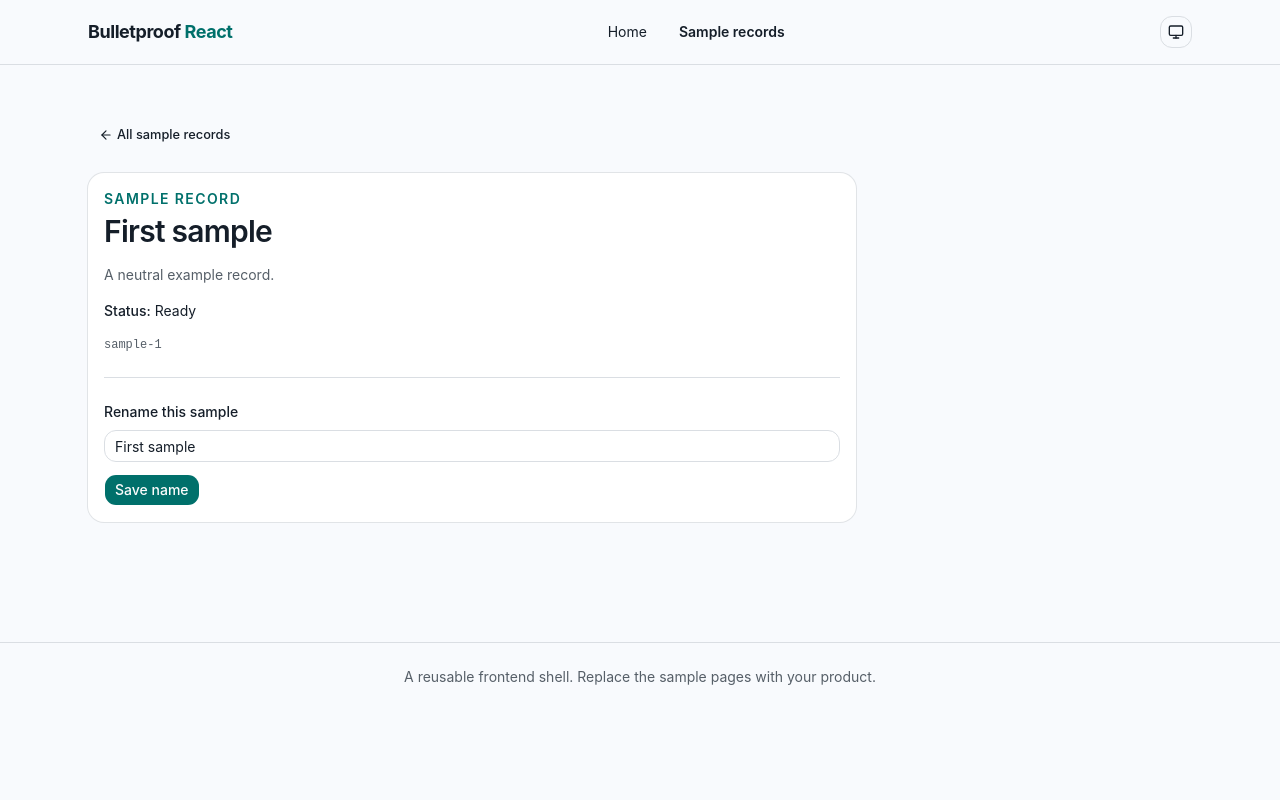
Test: application routes › rejects an invalid mutation response without showing a false success
Replace the text in the field labelled "Rename this sample" with "Unconfirmed name" at x=472, y=446, box [104,430,840,462]
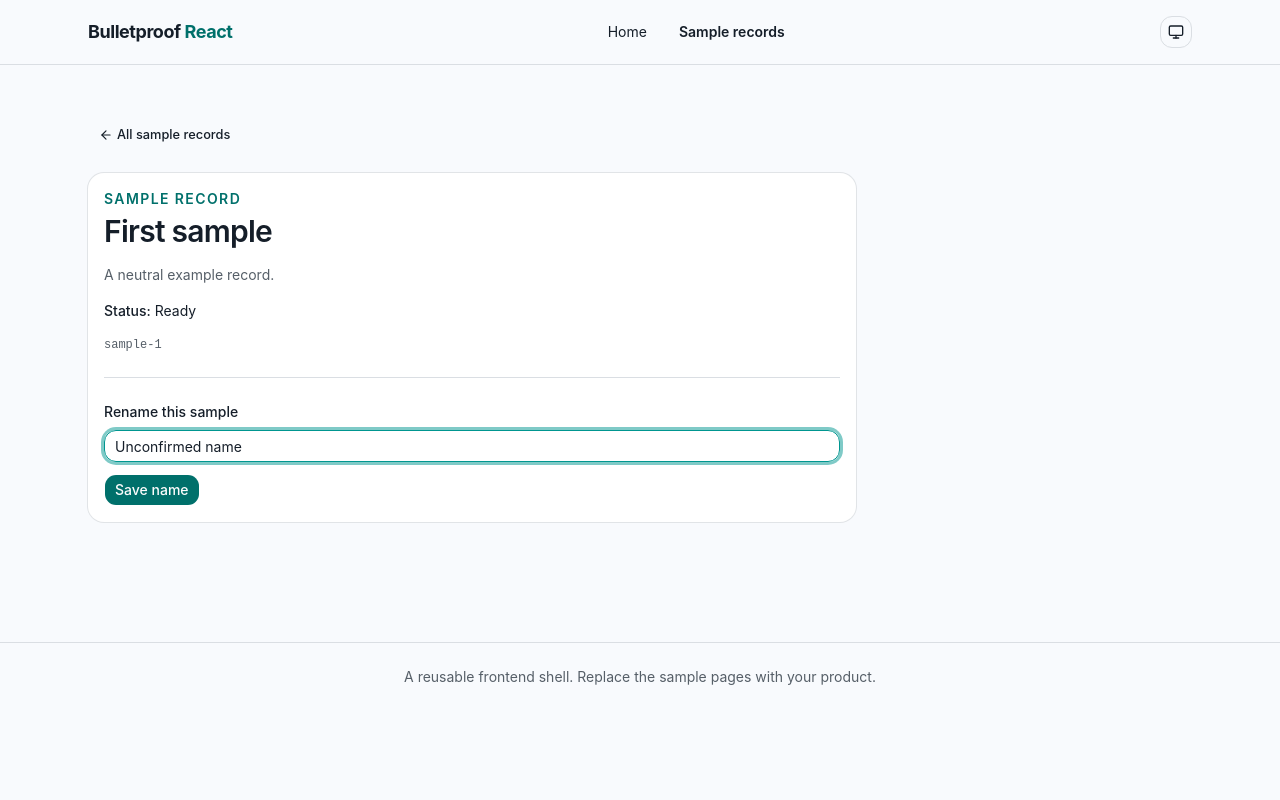
Click the button "Save name" at x=152, y=490, box [104,474,200,506]
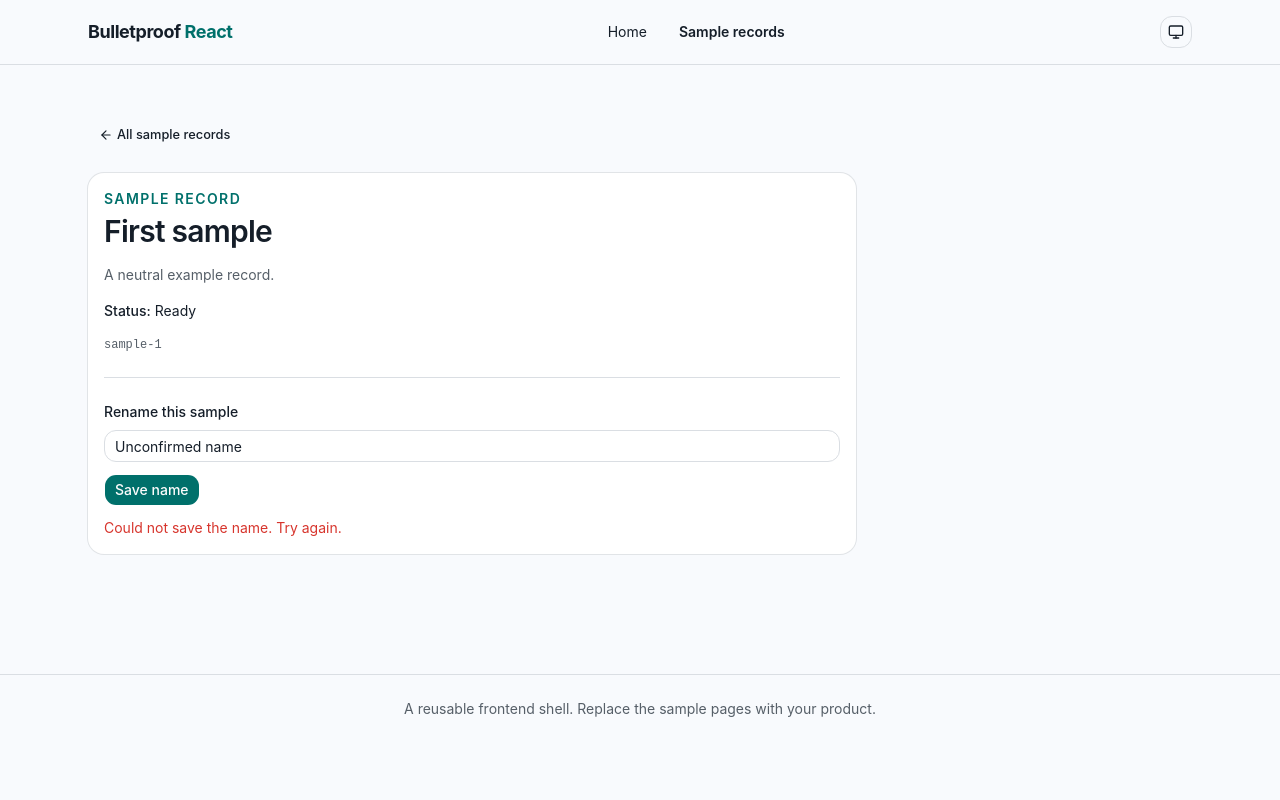
Expected: the heading "First sample" is shown, [104,213,272,249]
Expected: the text "Could not save the name. Try again." is shown, [104,519,342,536]
